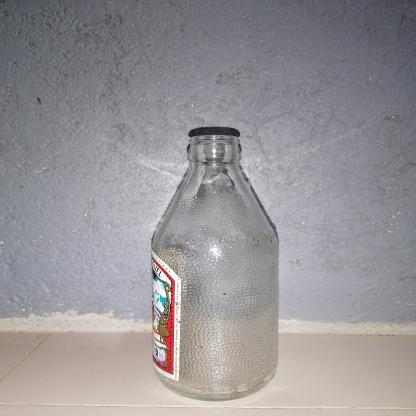Can: (146, 132, 282, 402)
